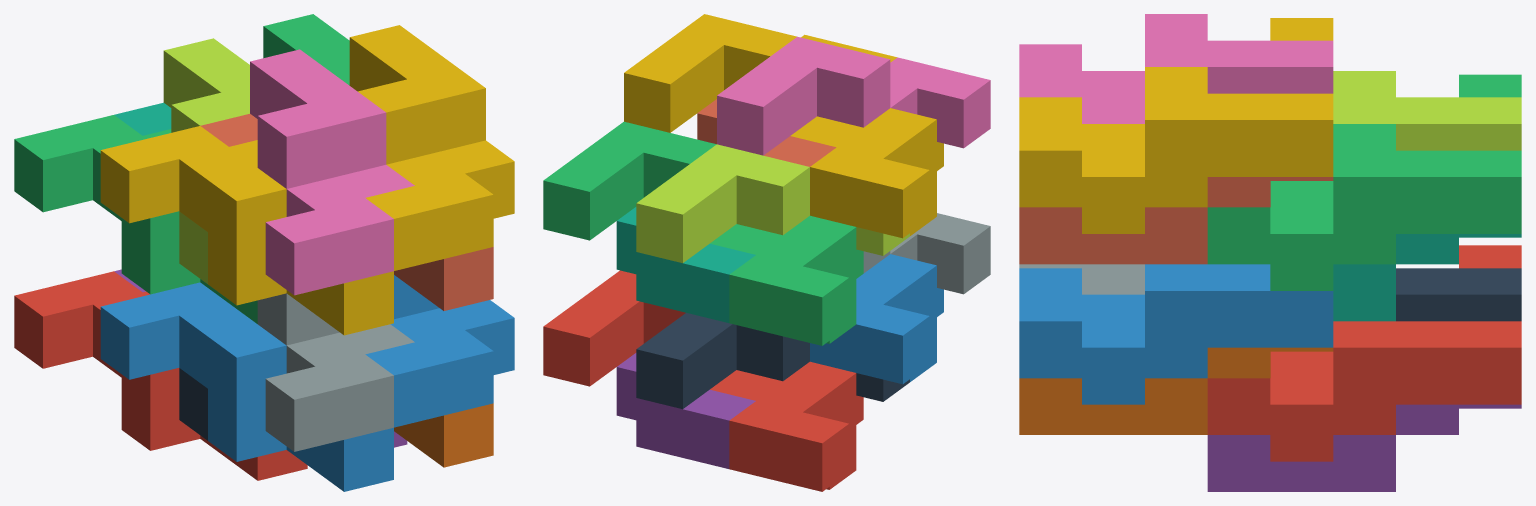
The model's file is tiling.obj.
The picture shows the model from 3 angles, left to right: view 1: azimuth 30°, elevation 25°; view 2: azimuth 150°, elevation 25°; view 3: azimuth 270°, elevation 25°; orthographic projection. The views are drawn at different scales.
Parts seen in each view (by area): view 1: copy_2_domain_4, copy_2_domain_8, copy_1_domain_4, copy_1_domain_2, copy_2_domain_2, copy_1_domain_1, copy_2_domain_6, copy_1_domain_3, copy_2_domain_3, copy_1_domain_8, copy_1_domain_6, copy_2_domain_7 (+2 smaller); view 2: copy_2_domain_4, copy_2_domain_3, copy_1_domain_1, copy_1_domain_3, copy_1_domain_4, copy_2_domain_8, copy_2_domain_1, copy_2_domain_7, copy_1_domain_2, copy_2_domain_5, copy_1_domain_5, copy_1_domain_7 (+2 smaller); view 3: copy_2_domain_8, copy_2_domain_6, copy_2_domain_7, copy_2_domain_5, copy_2_domain_4, copy_1_domain_8, copy_1_domain_6, copy_1_domain_5, copy_2_domain_3, copy_2_domain_1, copy_1_domain_7, copy_2_domain_2 (+3 smaller).
Boxes of the visible parts, x1,y1,x2,y2 form: copy_2_domain_4: (250, 49, 414, 295); copy_2_domain_8: (349, 25, 514, 270); copy_1_domain_4: (100, 126, 393, 335); copy_1_domain_2: (100, 282, 393, 491); copy_2_domain_2: (257, 293, 414, 451); copy_1_domain_1: (14, 271, 307, 480); copy_2_domain_6: (365, 275, 514, 427); copy_1_domain_3: (14, 115, 257, 323); copy_2_domain_3: (163, 38, 249, 283); copy_1_domain_8: (200, 114, 493, 310); copy_1_domain_6: (394, 403, 493, 467); copy_2_domain_7: (263, 14, 349, 85); copy_2_domain_4: (717, 36, 990, 155); copy_2_domain_3: (636, 144, 909, 263); copy_1_domain_1: (710, 361, 863, 491); copy_1_domain_3: (710, 215, 863, 345); copy_1_domain_4: (790, 108, 943, 238); copy_2_domain_8: (624, 14, 897, 132); copy_2_domain_1: (636, 313, 909, 409); copy_2_domain_7: (543, 121, 716, 240); copy_1_domain_2: (810, 254, 943, 384); copy_2_domain_5: (543, 270, 685, 386); copy_1_domain_5: (616, 353, 755, 468); copy_1_domain_7: (616, 207, 755, 322); copy_2_domain_8: (1019, 67, 1333, 233); copy_2_domain_6: (1019, 264, 1333, 404); copy_2_domain_7: (1207, 124, 1521, 290); copy_2_domain_5: (1207, 321, 1521, 461); copy_2_domain_4: (1019, 14, 1333, 123); copy_1_domain_8: (1019, 177, 1333, 264); copy_1_domain_6: (1019, 347, 1333, 434); copy_1_domain_5: (1207, 404, 1521, 491); copy_2_domain_3: (1333, 71, 1521, 150); copy_2_domain_1: (1396, 268, 1521, 321); copy_1_domain_7: (1333, 234, 1521, 321); copy_2_domain_2: (1019, 264, 1144, 294).
Bounding box in the file's own units: 6 × 7 × 8.
